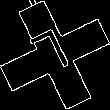L_SE: (30, 26, 80, 84)
